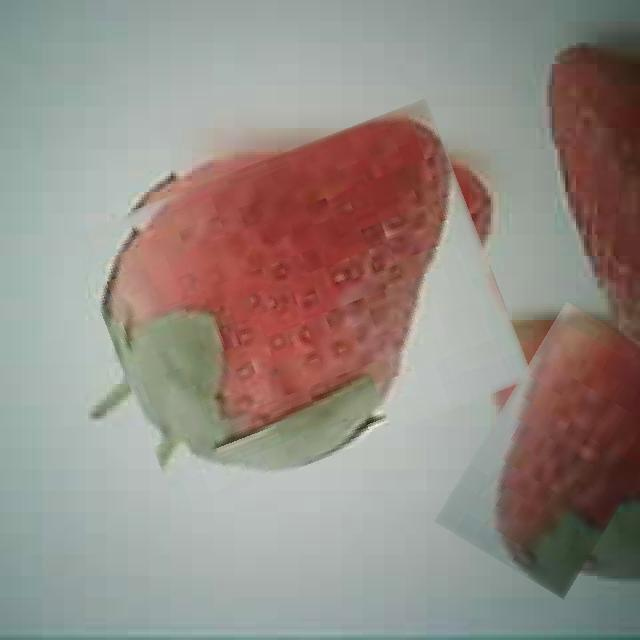strawberry: (91, 127, 512, 485), (461, 312, 640, 590)
